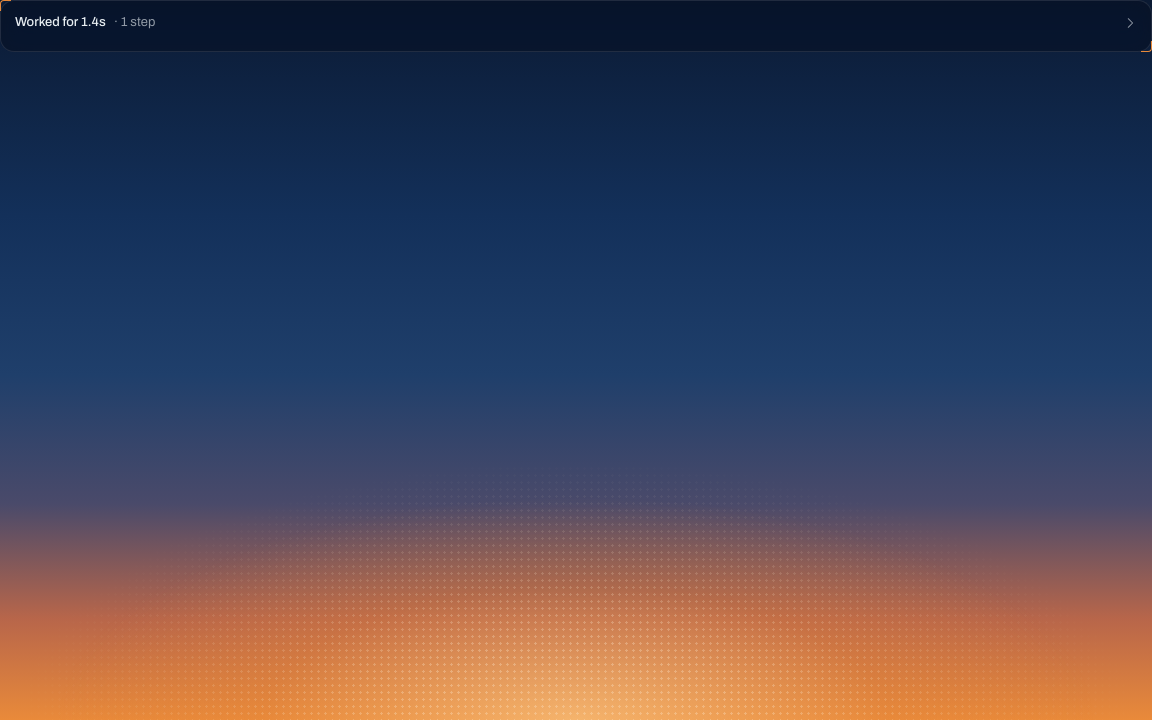
Test: StepList › collapses a finished turn to Worked for X.Xs · N steps and expands on click
Expected: the text "Searched memory: 2 found" is not shown
Click the button "Worked for 1.4s · 1 step" at (60, 22), box [15,5,1137,40]
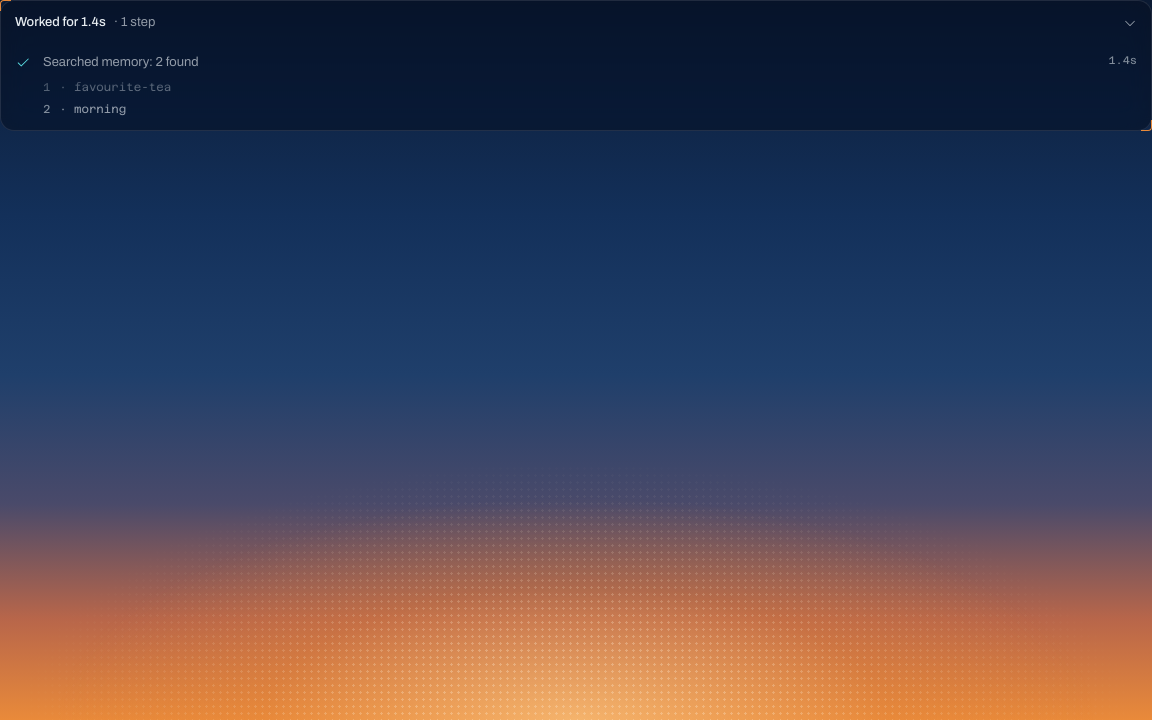
Expected: the text "Searched memory: 2 found" is shown, [43,54,199,68]
Expected: the text "1.4s" is shown, [1108,54,1137,66]
